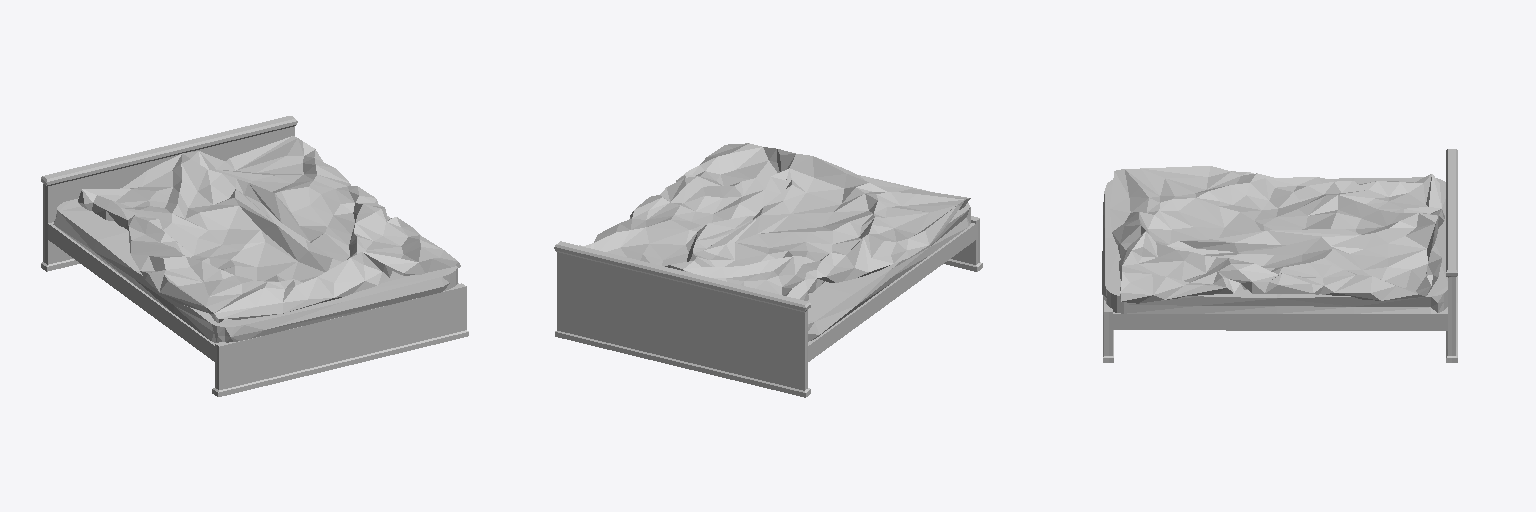
File: Bed04a.obj
The picture shows the model from 3 angles: view 1: azimuth 30°, elevation 25°; view 2: azimuth 150°, elevation 25°; view 3: azimuth 270°, elevation 25°; orthographic projection.
Visible parts, largest first — view 1: Bed04a_LOD0_Bed02_LOD0.001; view 2: Bed04a_LOD0_Bed02_LOD0.001; view 3: Bed04a_LOD0_Bed02_LOD0.001.
Boxes of the visible parts, x1,y1,x2,y2 form: Bed04a_LOD0_Bed02_LOD0.001: [41, 116, 468, 396]; Bed04a_LOD0_Bed02_LOD0.001: [554, 143, 982, 397]; Bed04a_LOD0_Bed02_LOD0.001: [1102, 149, 1457, 362].
Bounding box in the file's own units: 1.79 × 0.6109 × 2.14.